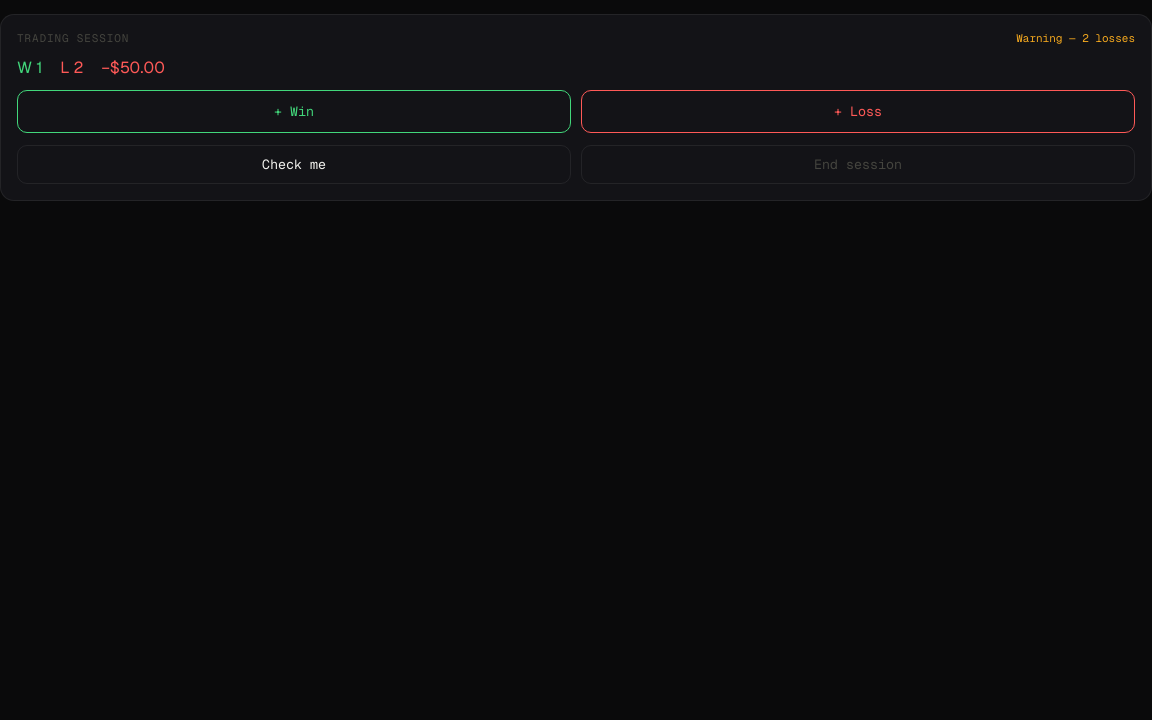
Test: SessionCard › armed: End session opens the debrief sheet
Step 1. Click the button "End session" → (858, 164), box [581,145,1135,184]
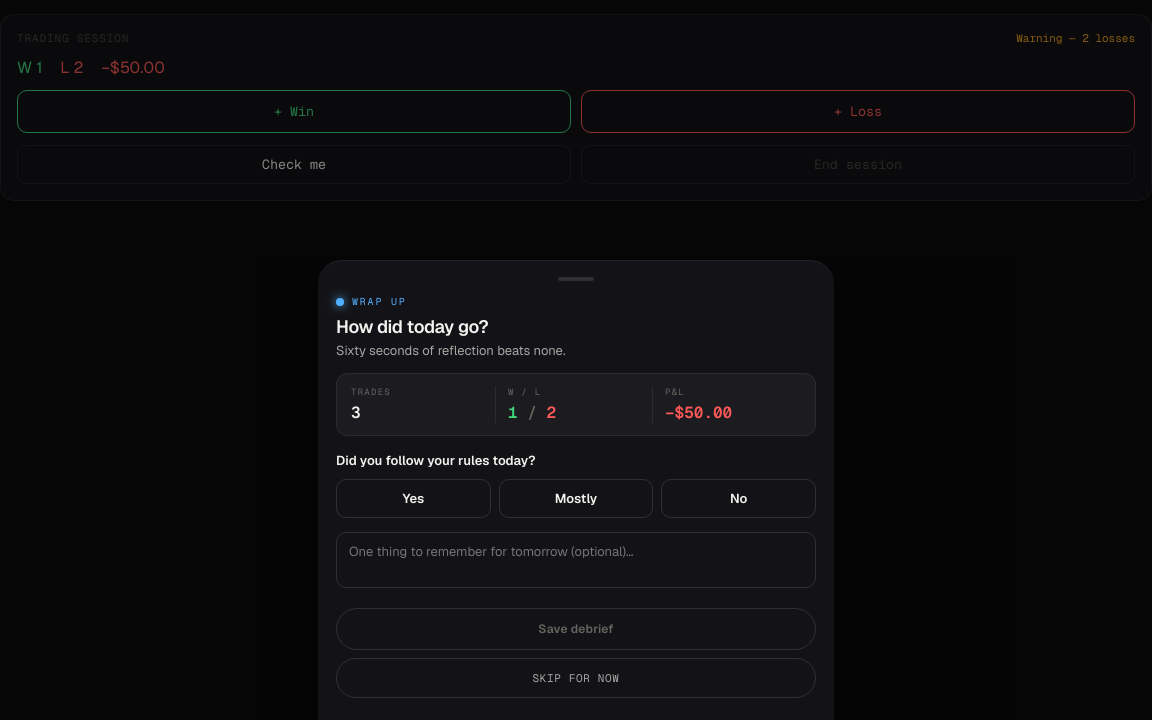
Check: the text "Did you follow your rules today?" is shown, box [336,452,536,469]
